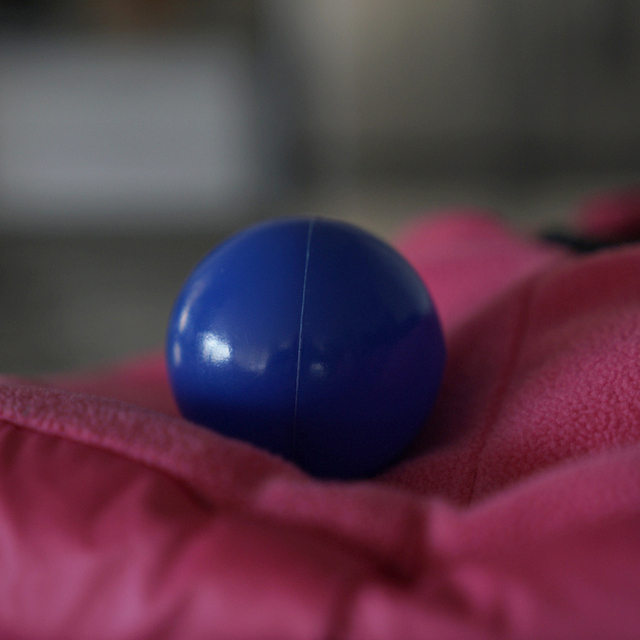Ball: (166, 216, 444, 479)
